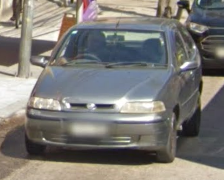car: (26, 17, 204, 164)
